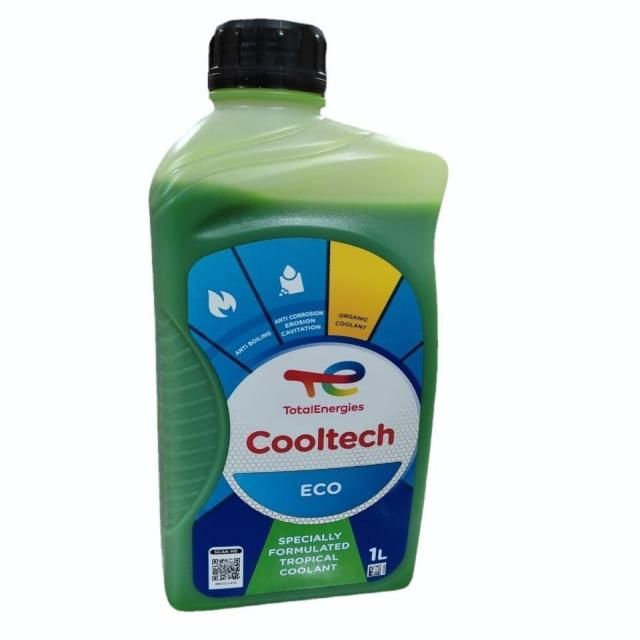coolant: (144, 8, 455, 613)
